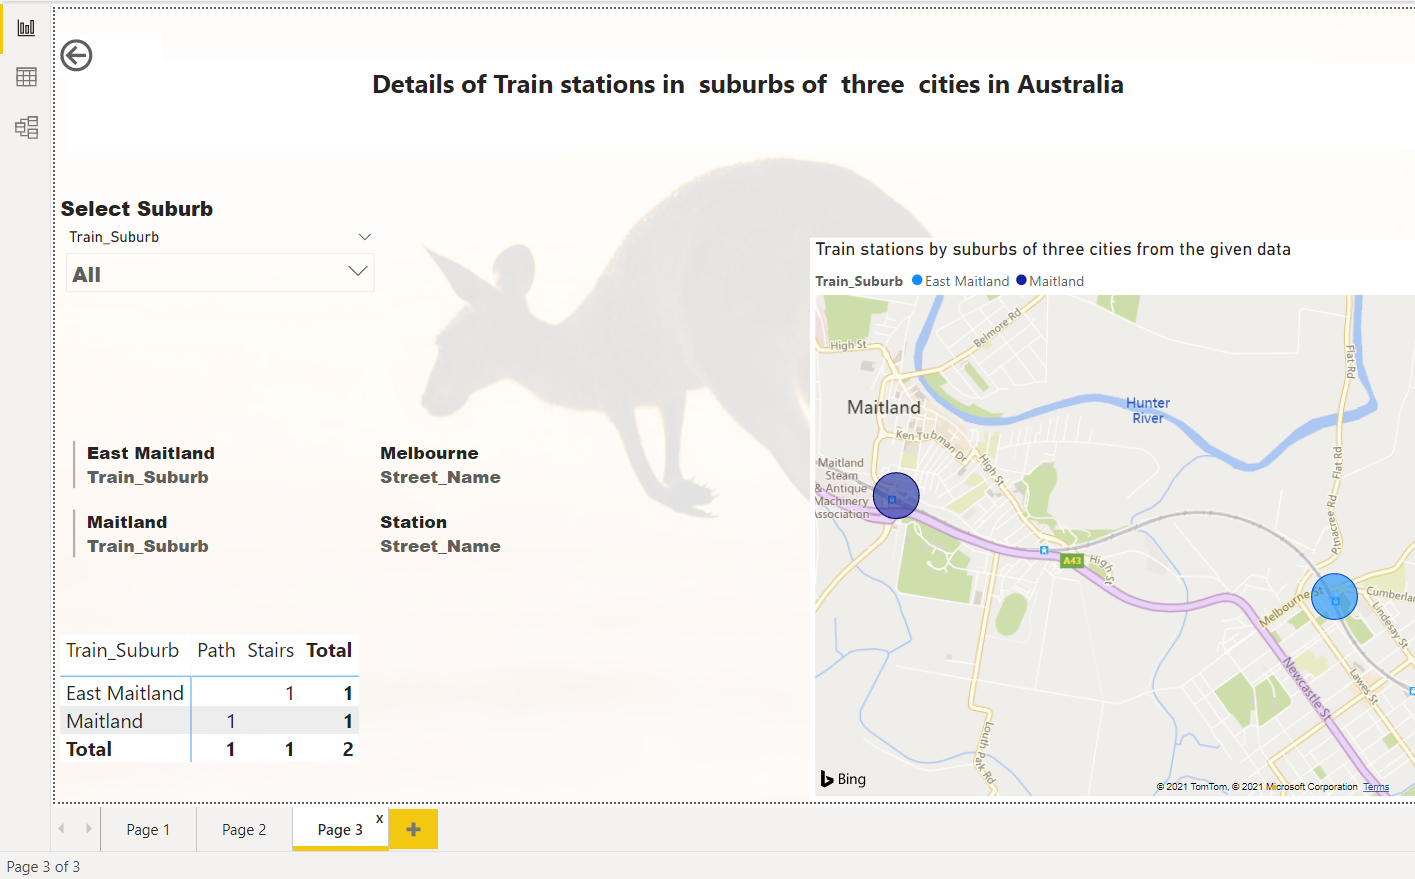

The page's visual inventory and layout, read from the dashboard file:
{"tool":"powerbi","page":{"name":"Page 3","canvas":[1280,720],"ordinal":2},"visuals":[{"type":"map","title":"Train stations by suburbs of three cities from the given data","fields":{"Y":["NSW_StationEntrances_Sydney_2018.Latitude"],"X":["NSW_StationEntrances_Sydney_2018.Longitude"],"Series":["NSW_StationEntrances_Sydney_2018.Train_Suburb"]},"box":[707.1,190.8,572.5,529.2],"z":1},{"type":"multiRowCard","fields":{"Values":["TrainStation.Train_Suburb","TrainStation.Street_Name"]},"box":[11.7,375.8,572.5,160.4],"z":2},{"type":"pivotTable","fields":{"Rows":["TrainStation.Train_Suburb"],"Columns":["TrainStation.Entrance_Type"],"Values":["CountNonNull(TrainStation.Exit_Number)"]},"box":[0,557.3,584.2,162.7],"z":3},{"type":"textbox","box":[11.7,24.6,1267.9,84.3],"z":4},{"type":"slicer","title":"Select Suburb","fields":{"Values":["TrainStation.Train_Suburb"]},"box":[0,149.9,309.1,149.9],"z":5},{"type":"actionButton","box":[0,0,100,40],"z":6}]}

Visuals, with their boxes on the page's 1280x720 design canvas (x1, y1, x2, y2). These are canvas units, not pixel positions in the 1415x879 screenshot, which may show the page scaled, cropped or inside an application window:
"Train stations by suburbs of three cities from the given data" map: left=707, top=191, right=1280, bottom=720
multiRowCard - TrainStation.Train_Suburb x TrainStation.Street_Name: left=12, top=376, right=584, bottom=536
pivotTable - TrainStation.Train_Suburb x TrainStation.Entrance_Type: left=0, top=557, right=584, bottom=720
textbox: left=12, top=25, right=1280, bottom=109
"Select Suburb" slicer: left=0, top=150, right=309, bottom=300
actionButton: left=0, top=0, right=100, bottom=40
